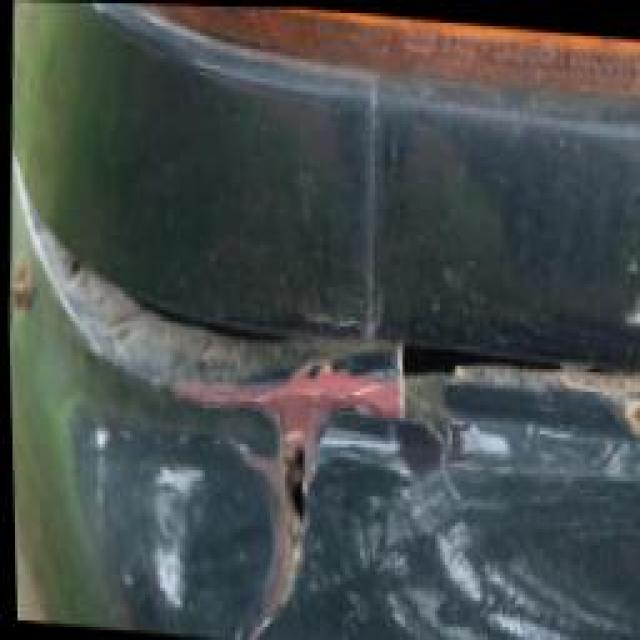Bumper: (8, 261, 639, 640)
